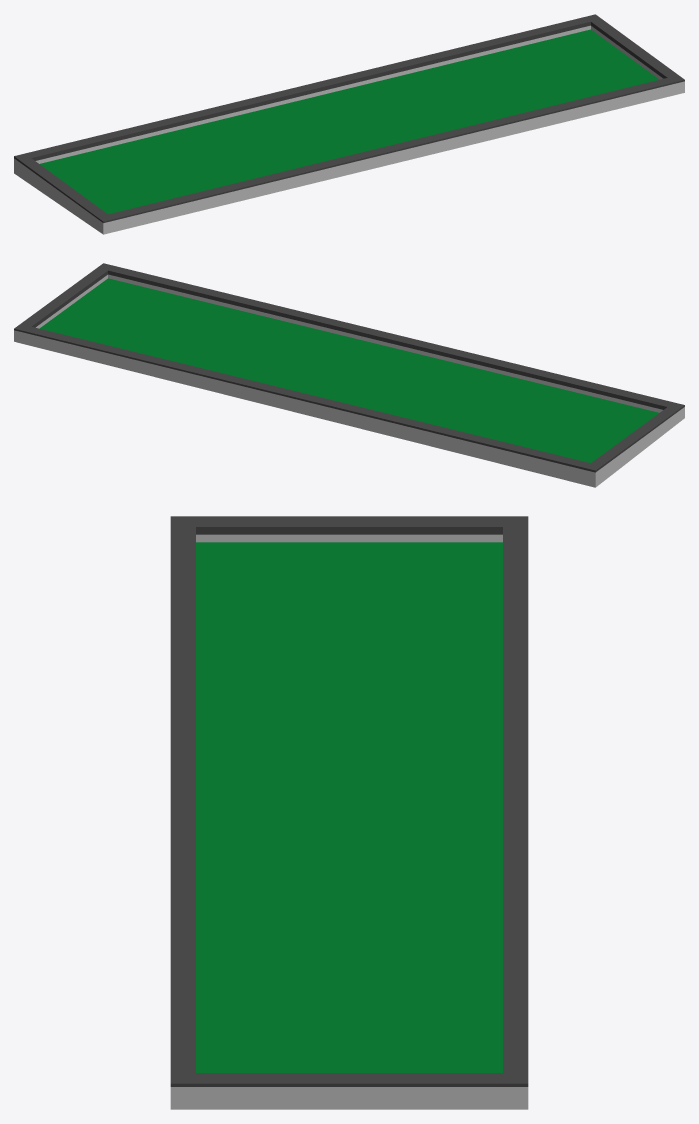
The model's file is Flowerbed-07c.fbx.
The picture shows the model from 3 angles, top to bottom: view 1: azimuth 30°, elevation 25°; view 2: azimuth 150°, elevation 25°; view 3: azimuth 270°, elevation 25°; orthographic projection. The views are drawn at different scales.
Visible parts, largest first — view 1: Flowerbed-07c; view 2: Flowerbed-07c; view 3: Flowerbed-07c.
Boxes of the visible parts, bbox=[...] form: Flowerbed-07c: bbox=[14, 14, 684, 234]; Flowerbed-07c: bbox=[14, 263, 684, 487]; Flowerbed-07c: bbox=[170, 516, 528, 1109].
Bounding box in the file's own units: 8.68 × 0.2455 × 2.31.
